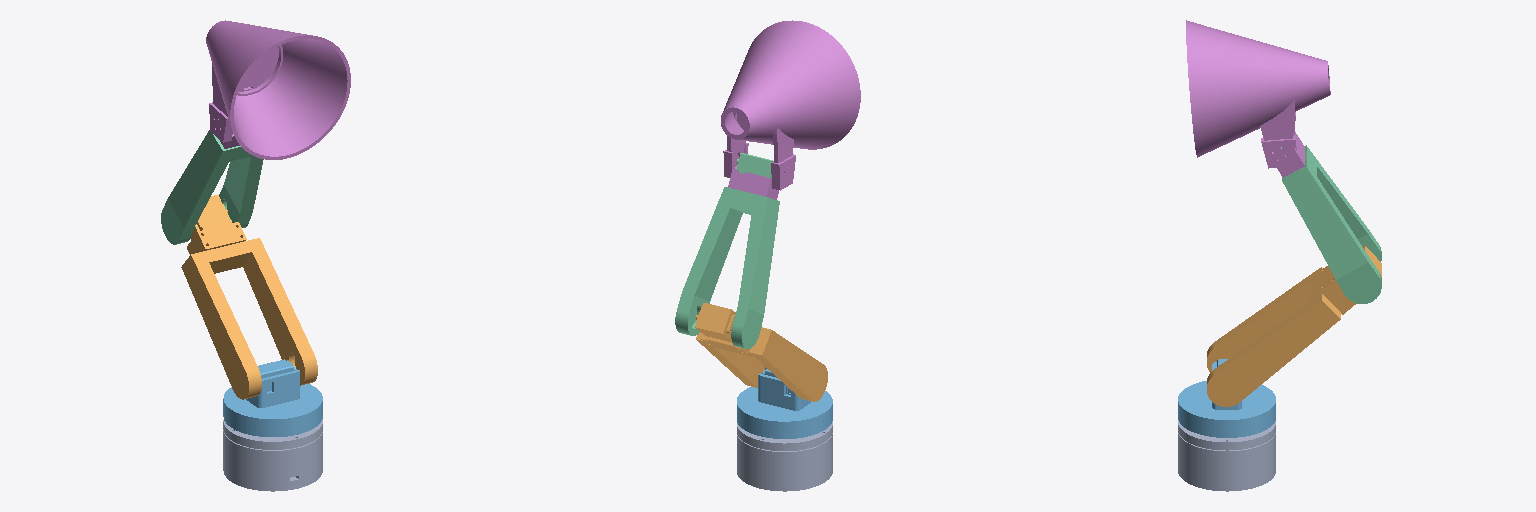
URDF robot description (lamp_cad_4dof):
<?xml version="1.0"?>
<robot name="lamp_cad_4dof">
  <link name="base_link">
    <visual>
      <origin xyz="0.000000 0.000000 0.055000" rpy="3.141592653589793 0 0" />
      <geometry>
        <mesh filename="package://lamp_cad_4dof/meshes/base1_fixed.stl" scale="0.001 0.001 0.001" />
      </geometry>
      <material name="cad_group_0">
        <color rgba="0.72 0.76 0.85 1" />
      </material>
    </visual>
  </link>
  <link name="base2_link">
    <visual>
      <origin xyz="0.000000 0.000000 0.000000" rpy="3.141592653589793 0 0" />
      <geometry>
        <mesh filename="package://lamp_cad_4dof/meshes/base2_yaw.stl" scale="0.001 0.001 0.001" />
      </geometry>
      <material name="cad_group_1">
        <color rgba="0.52 0.77 0.93 1" />
      </material>
    </visual>
  </link>
  <link name="arm1_link">
    <visual>
      <origin xyz="0.000000 0.000000 -0.040500" rpy="3.141592653589793 0 0" />
      <geometry>
        <mesh filename="package://lamp_cad_4dof/meshes/arm1_shoulder.stl" scale="0.001 0.001 0.001" />
      </geometry>
      <material name="cad_group_2">
        <color rgba="0.97 0.74 0.44 1" />
      </material>
    </visual>
  </link>
  <link name="arm3_link">
    <visual>
      <origin xyz="0.000000 -0.129450 -0.164100" rpy="3.141592653589793 0 0" />
      <geometry>
        <mesh filename="package://lamp_cad_4dof/meshes/arm3_elbow.stl" scale="0.001 0.001 0.001" />
      </geometry>
      <material name="cad_group_3">
        <color rgba="0.56 0.85 0.71 1" />
      </material>
    </visual>
  </link>
  <link name="head2_link">
    <visual>
      <origin xyz="0.000500 -0.058800 -0.306400" rpy="3.141592653589793 0 0" />
      <geometry>
        <mesh filename="package://lamp_cad_4dof/meshes/head2_pitch.stl" scale="0.001 0.001 0.001" />
      </geometry>
      <material name="cad_group_4">
        <color rgba="0.84 0.59 0.86 1" />
      </material>
    </visual>
  </link>
  <joint name="joint1" type="revolute">
    <origin xyz="0.000000 0.000000 0.055000" rpy="0 0 0" />
    <parent link="base_link" />
    <child link="base2_link" />
    <axis xyz="0 0 1" />
    <limit lower="-1.05" upper="1.05" effort="1.0" velocity="1.0" />
  </joint>
  <joint name="joint2" type="revolute">
    <origin xyz="0.000000 0.000000 0.040500" rpy="0 0 0" />
    <parent link="base2_link" />
    <child link="arm1_link" />
    <axis xyz="1 0 0" />
    <limit lower="-1.3" upper="1.3" effort="1.0" velocity="1.0" />
  </joint>
  <joint name="joint3" type="revolute">
    <origin xyz="0.000000 0.129450 0.123600" rpy="0 0 0" />
    <parent link="arm1_link" />
    <child link="arm3_link" />
    <axis xyz="1 0 0" />
    <limit lower="-1.3" upper="1.3" effort="1.0" velocity="1.0" />
  </joint>
  <joint name="joint4" type="revolute">
    <origin xyz="-0.000500 -0.070650 0.142300" rpy="0 0 0" />
    <parent link="arm3_link" />
    <child link="head2_link" />
    <axis xyz="1 0 0" />
    <limit lower="-1.3" upper="1.3" effort="1.0" velocity="1.0" />
  </joint>
</robot>

--- Render facts (derived) ---
The picture shows the robot from 3 angles, left to right: view 1: azimuth 30°, elevation 25°; view 2: azimuth 150°, elevation 25°; view 3: azimuth 270°, elevation 25°; orthographic projection.
Model lamp_cad_4dof with 5 links and 4 joints (4 revolute), rooted at base_link, posed all joints at 0.
Links seen in each view (by area): view 1: head2_link, arm1_link, arm3_link, base_link, base2_link; view 2: head2_link, arm3_link, arm1_link, base_link, base2_link; view 3: head2_link, arm1_link, arm3_link, base_link, base2_link.
Link boxes in pixels (x1,y1,x2,y2): head2_link: (206, 20, 350, 159); arm1_link: (181, 195, 317, 399); arm3_link: (161, 130, 263, 244); base_link: (223, 419, 322, 491); base2_link: (223, 359, 322, 436); head2_link: (721, 20, 860, 199); arm3_link: (675, 153, 779, 348); arm1_link: (695, 303, 827, 401); base_link: (737, 421, 832, 491); base2_link: (737, 368, 832, 438); head2_link: (1186, 20, 1330, 177); arm1_link: (1207, 245, 1381, 406); arm3_link: (1281, 145, 1381, 303); base_link: (1178, 420, 1275, 491); base2_link: (1178, 359, 1275, 437).
Size in the robot's own frame: 0.14 by 0.2075 by 0.4977 metres.
Meshes: 5 distinct files referenced, 5 mesh visuals loaded (5 binary STL).
